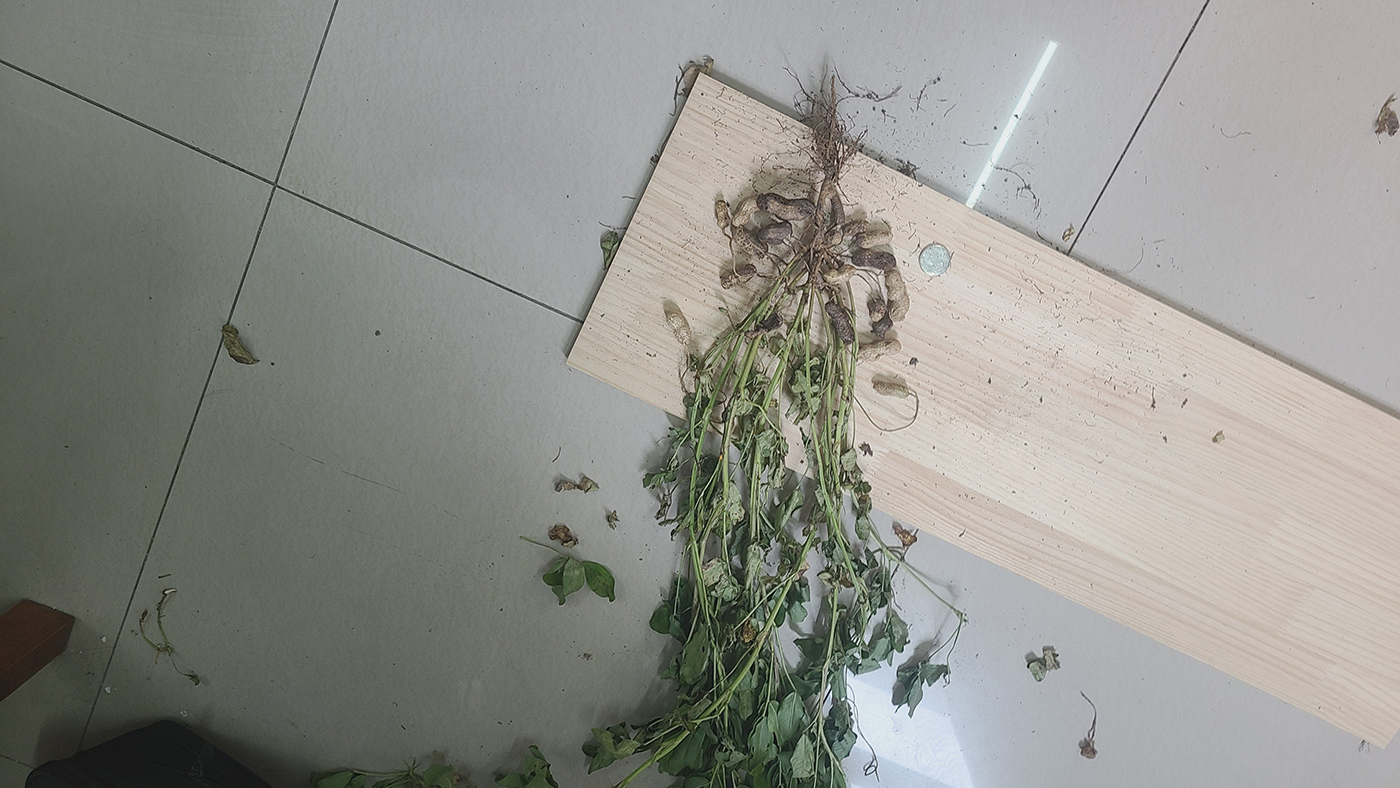h: (884, 270, 909, 321), (857, 339, 901, 360), (665, 311, 691, 345), (732, 197, 759, 225), (858, 231, 895, 249), (873, 381, 909, 398), (825, 264, 855, 283), (715, 200, 730, 229)
l: (757, 192, 817, 222), (825, 301, 855, 344), (730, 225, 768, 254), (722, 264, 757, 290), (852, 248, 895, 269), (870, 300, 894, 337), (749, 313, 784, 338), (758, 222, 795, 243), (829, 193, 847, 221), (844, 220, 872, 235)
